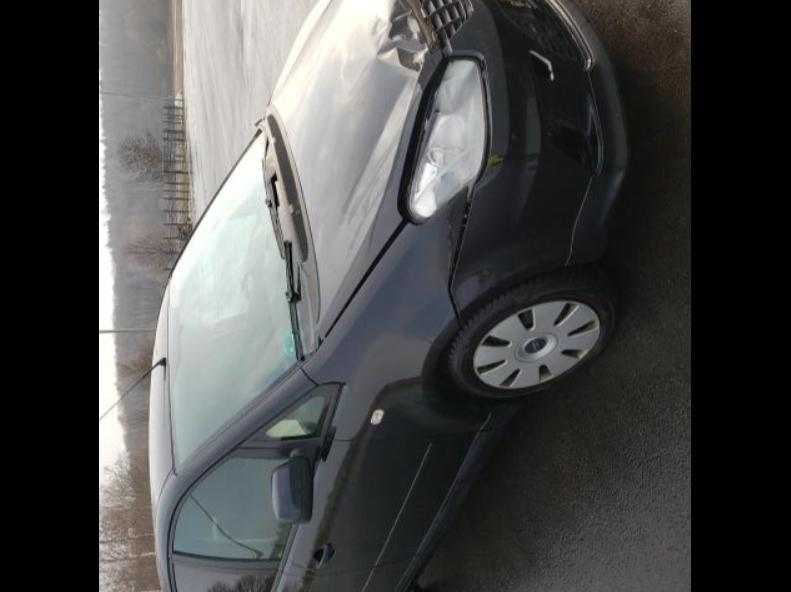Broken part: (322, 38, 456, 334), (444, 180, 482, 324), (408, 0, 468, 52), (501, 0, 546, 18)
Dent: (372, 0, 432, 92), (444, 188, 466, 278), (468, 264, 500, 288)
Missing part: (530, 50, 558, 82)
